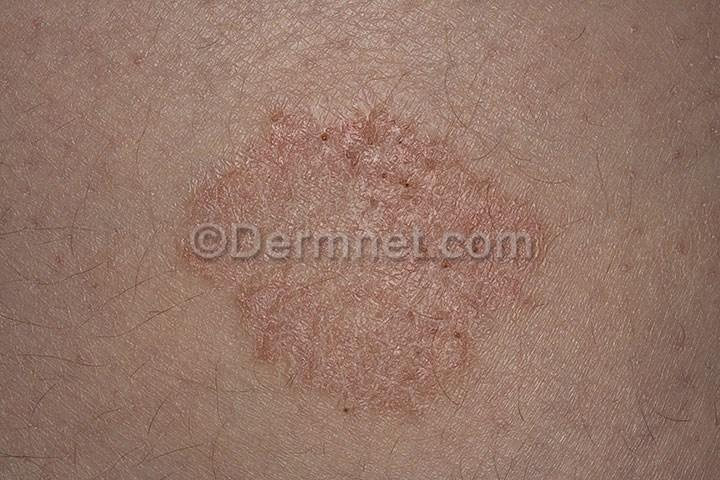Eczema: (105, 37, 572, 446)
